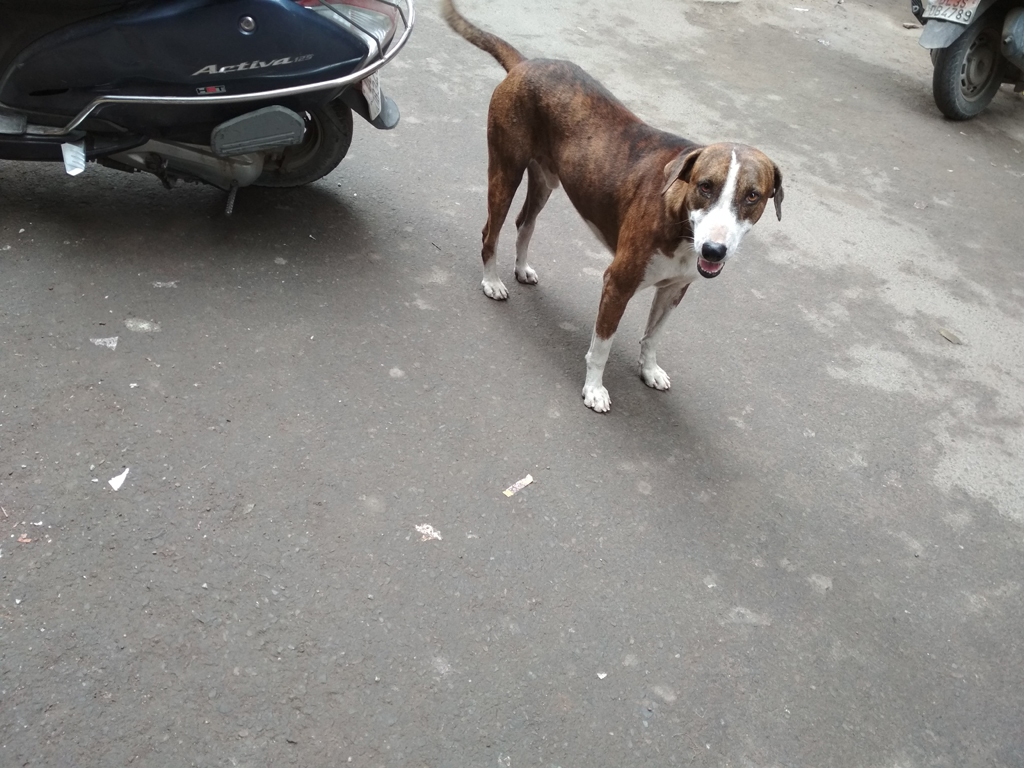dog: (436, 1, 784, 412)
